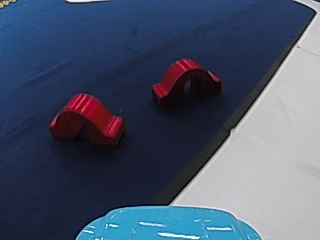bridge: (46, 90, 132, 148), (148, 55, 222, 108)
